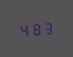eight: (31, 20, 42, 36)
four: (18, 21, 29, 37)
three: (43, 19, 54, 35)
